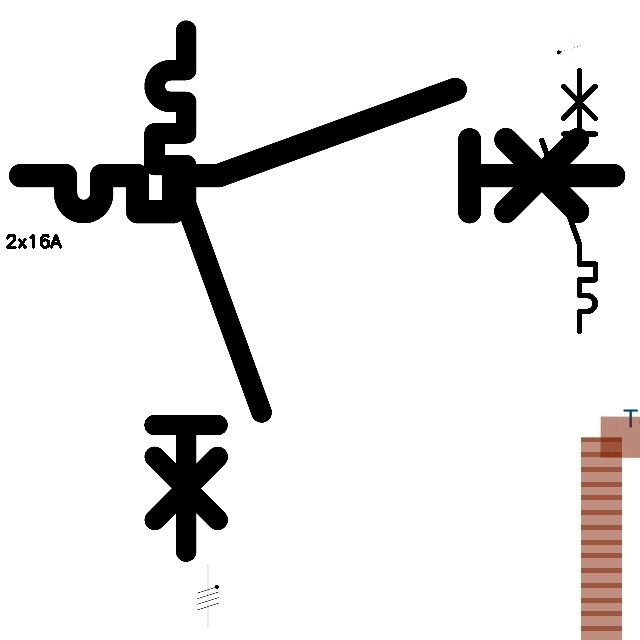interruptor_termomagnetico: (5, 74, 629, 227), (141, 17, 275, 565), (535, 64, 602, 338)
